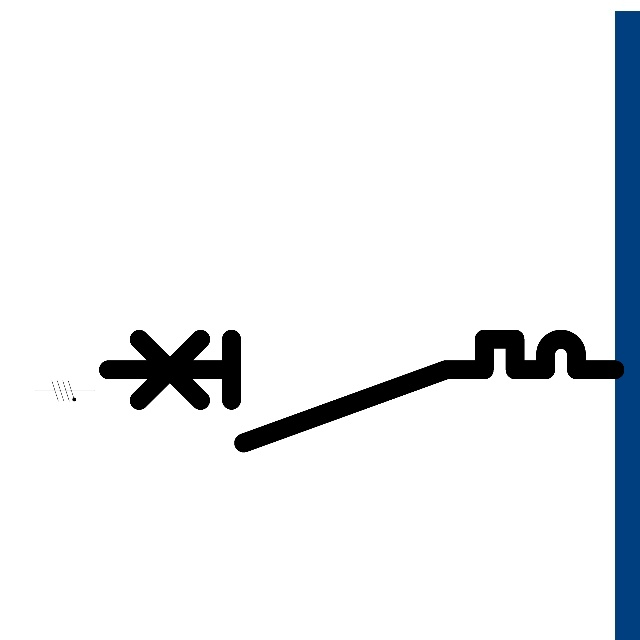interruptor_termomagnetico: (95, 326, 628, 456)
